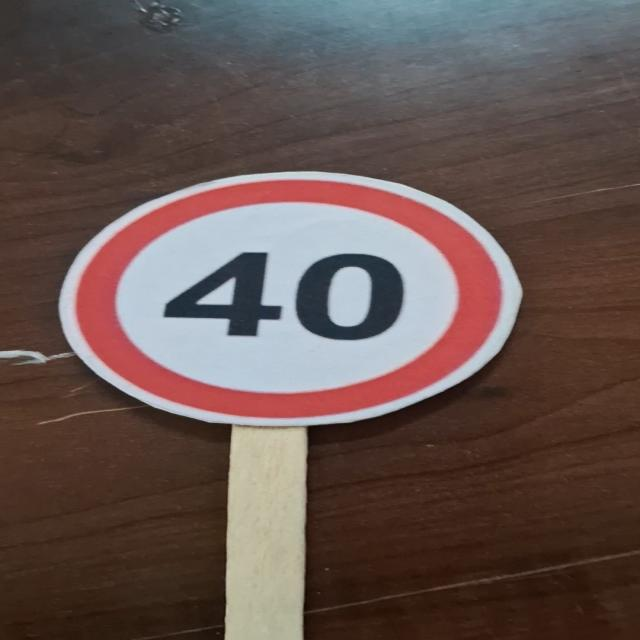Speed40: (58, 168, 524, 428)
